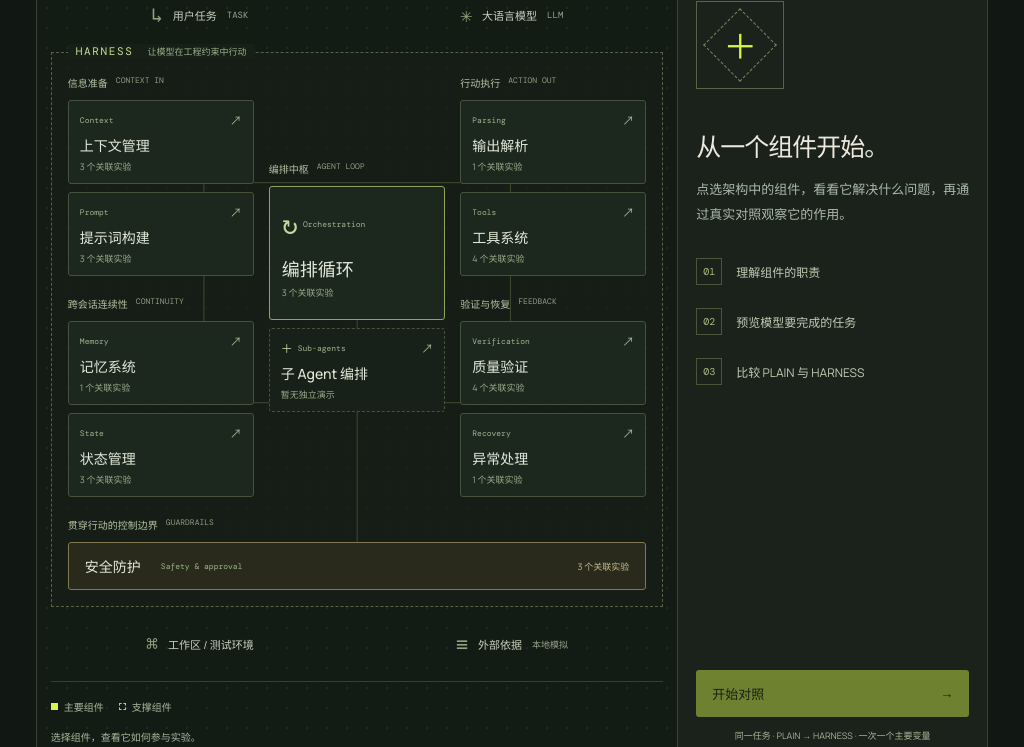
Scenario: architecture explorer › clears only expired saved runs and returns to a usable explorer
(page scrolled)
Click the button "Verification ↗ 质量验证 4 个关联实验" at (553, 363), box [460, 321, 646, 405]
(page scrolled)
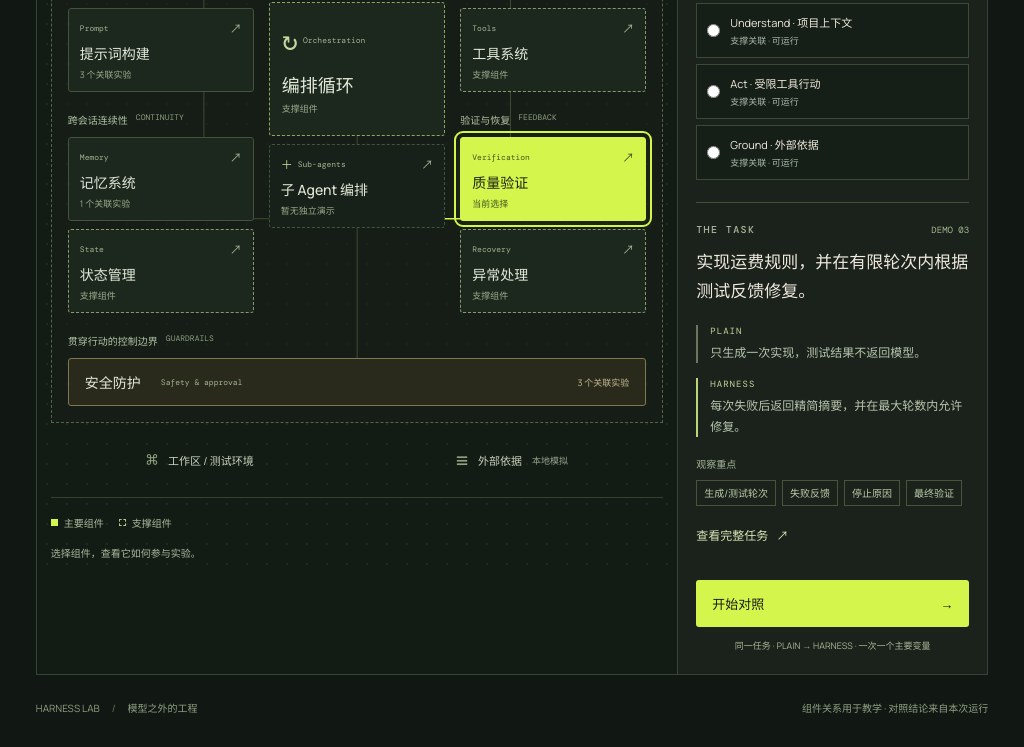
expect the button "开始对照 →" is enabled: met, box [696, 580, 969, 627]
